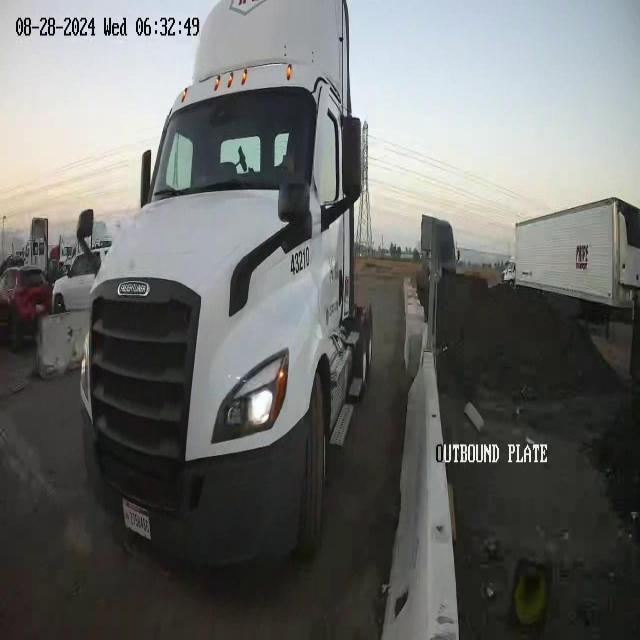TRUCK_OUT: (78, 1, 374, 574)
